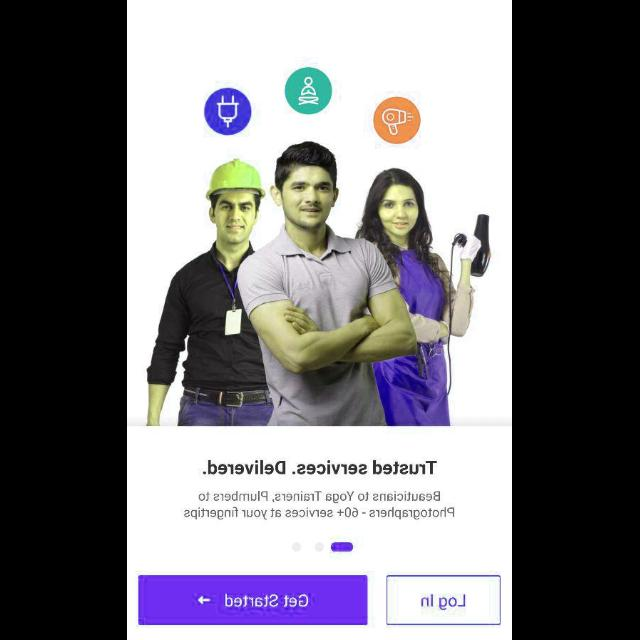image: (146, 68, 492, 426)
pageindicator: (291, 542, 353, 552)
text: (184, 490, 456, 520), (204, 460, 438, 474)
textbutton: (140, 576, 368, 624), (387, 576, 501, 624)
